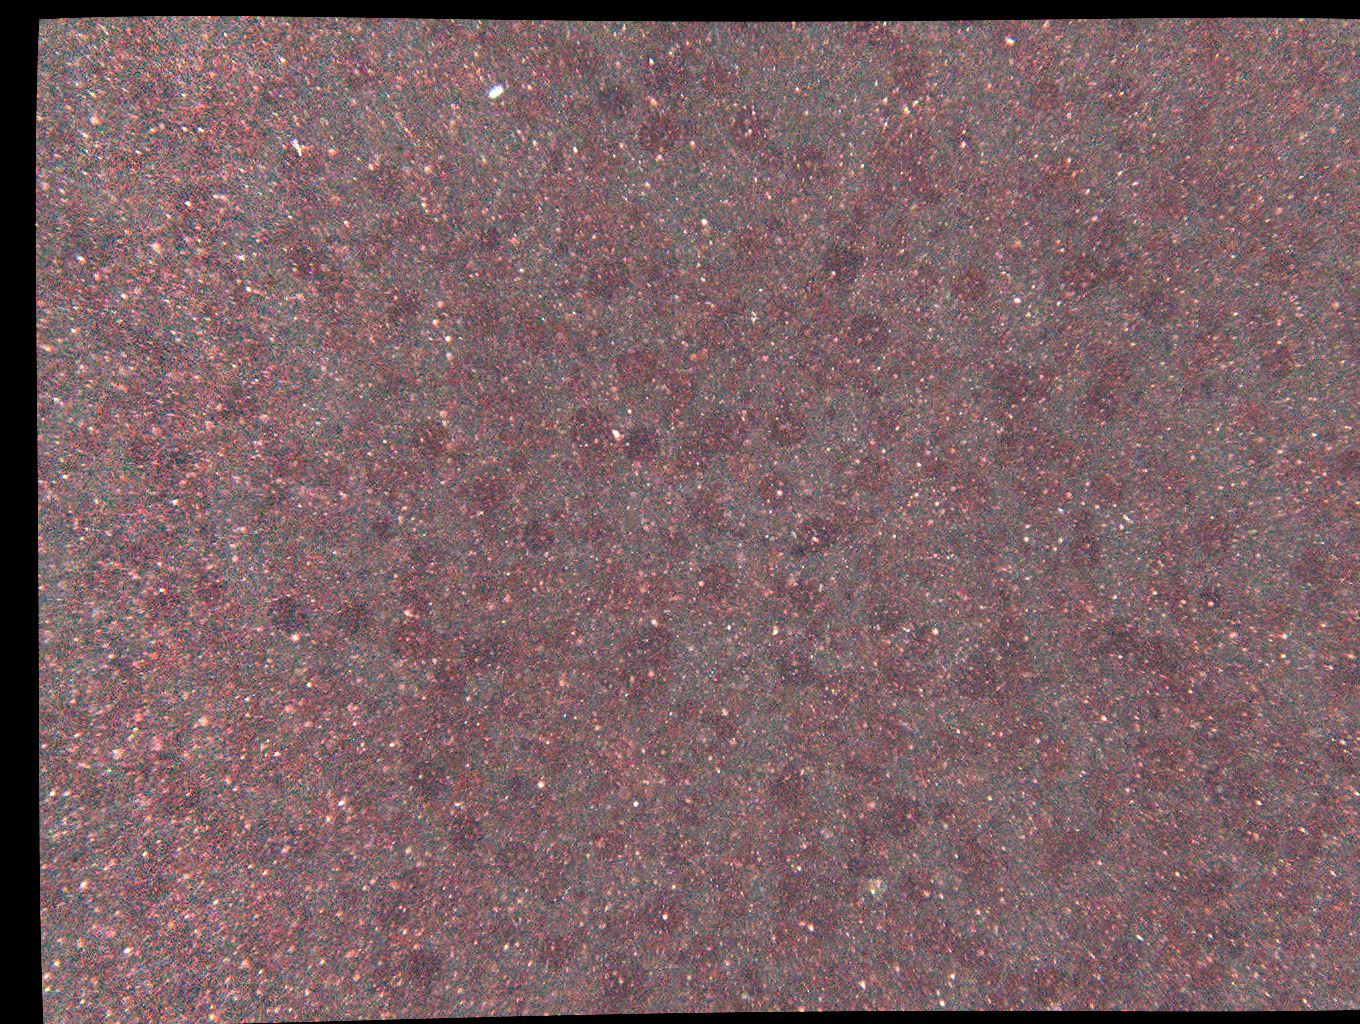Substrate A: (88, 34, 113, 52)
